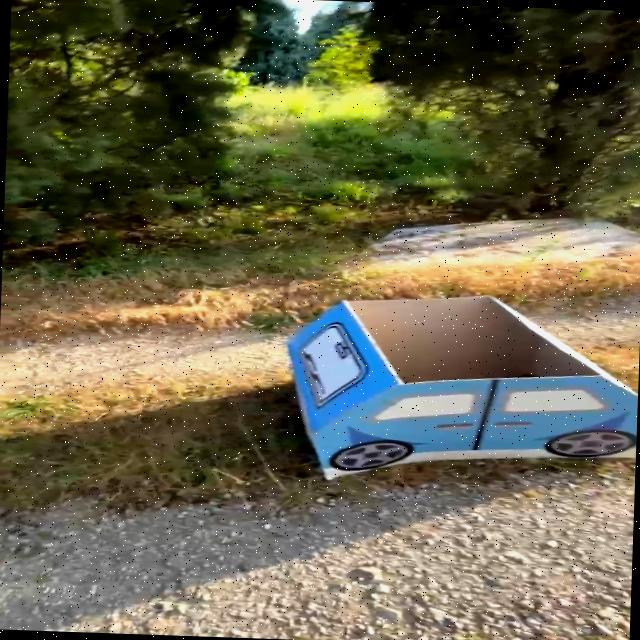blue_car: (224, 236, 640, 521)
